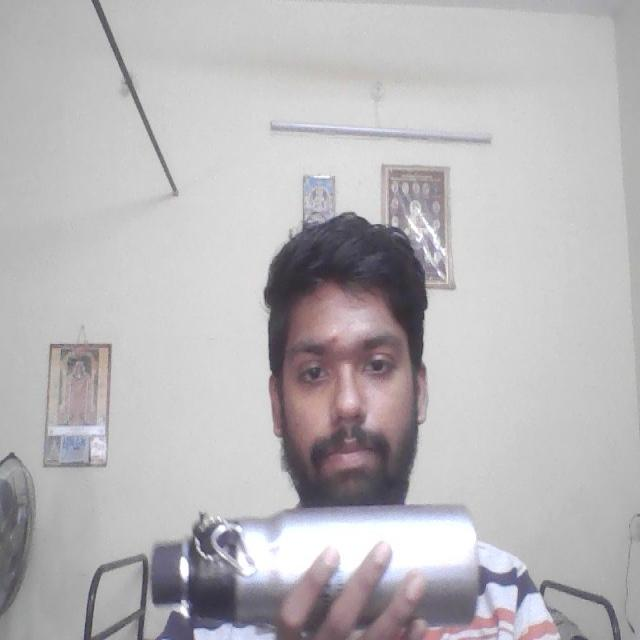Drinking: (148, 504, 484, 624)
